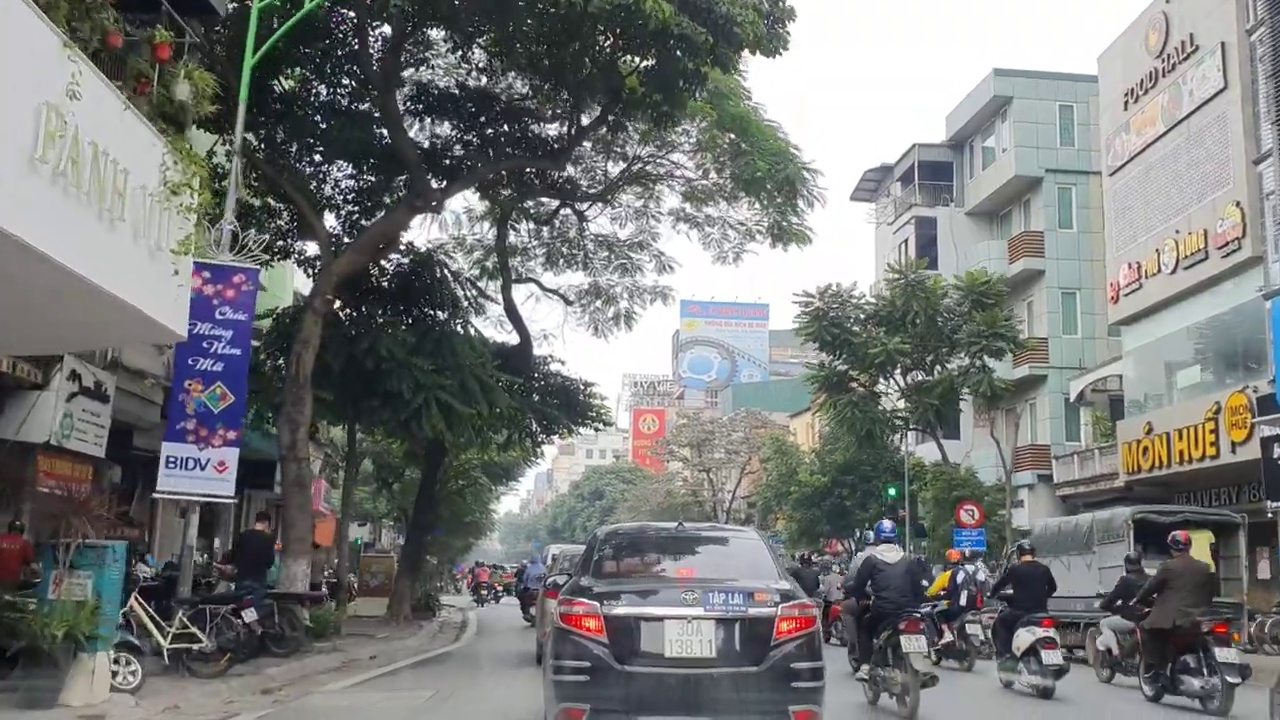person: (898, 632, 930, 650), (1214, 645, 1242, 662), (1041, 648, 1066, 663), (965, 620, 983, 632)
